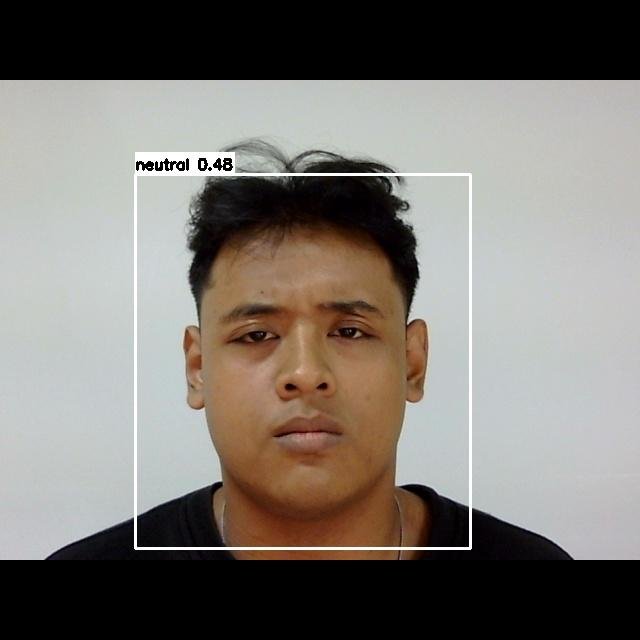Angry: (194, 284, 406, 465)
